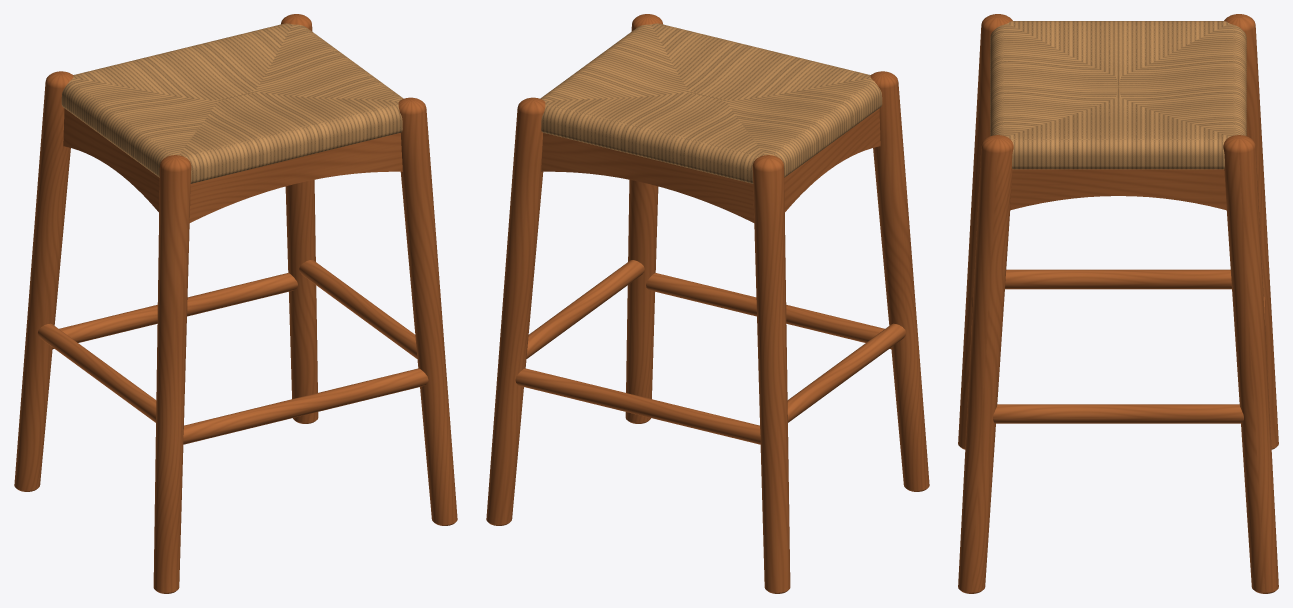
Rendered from BarStool.obj.
3 views of the same model, side by side, from view 1: azimuth 30°, elevation 25°; view 2: azimuth 150°, elevation 25°; view 3: azimuth 270°, elevation 25° (orthographic). The views are drawn at different scales.
Visible parts, largest first — view 1: BarStool; view 2: BarStool; view 3: BarStool.
Part boxes in pixels (left/top/right/bottom): BarStool: left=14, top=14, right=457, bottom=593; BarStool: left=486, top=14, right=929, bottom=593; BarStool: left=958, top=14, right=1278, bottom=593.
Size of the model in its own units: 0.4857 by 0.645 by 0.4257.
2 materials, 2 textured.
